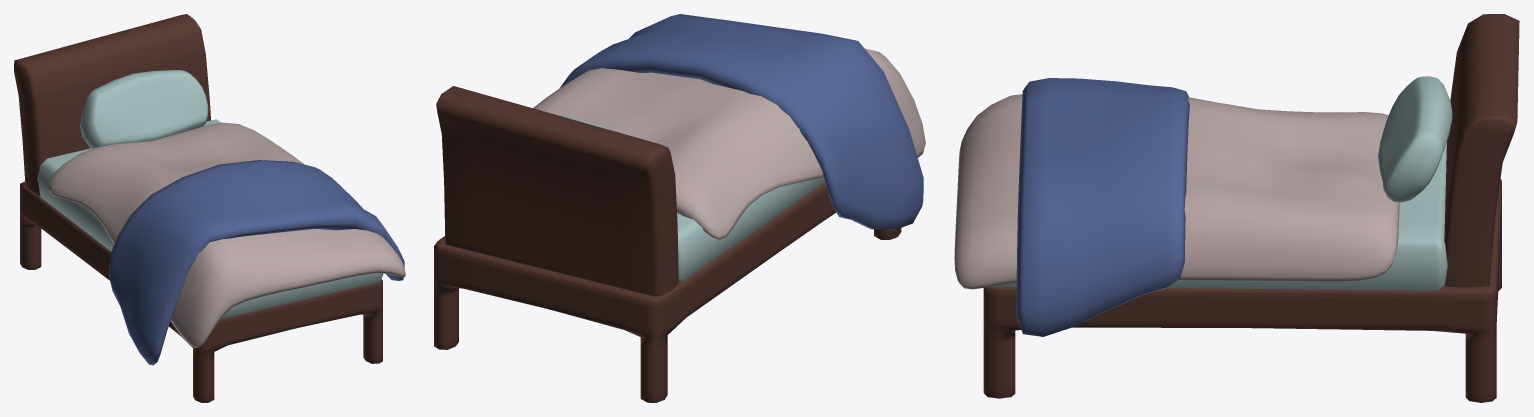
File: bed_1.fbx
The picture shows the model from 3 angles, left to right: view 1: azimuth 30°, elevation 25°; view 2: azimuth 150°, elevation 25°; view 3: azimuth 270°, elevation 25°; orthographic projection. The views are drawn at different scales.
Visible parts, largest first — view 1: polySurface33, bed4_polySurface38, polySurface34, polySurface36, polySurface32; view 2: bed4_polySurface38, polySurface34, polySurface33, polySurface32; view 3: polySurface33, polySurface34, bed4_polySurface38, polySurface32, polySurface36.
Part boxes in pixels (x1=…): polySurface33: x1=48, y1=122, x2=405, y2=347; bed4_polySurface38: x1=14, y1=14, x2=382, y2=402; polySurface34: x1=109, y1=160, x2=404, y2=365; polySurface36: x1=80, y1=70, x2=208, y2=148; polySurface32: x1=37, y1=119, x2=383, y2=319; bed4_polySurface38: x1=434, y1=86, x2=901, y2=402; polySurface34: x1=560, y1=14, x2=923, y2=229; polySurface33: x1=533, y1=48, x2=925, y2=239; polySurface32: x1=677, y1=177, x2=825, y2=281; polySurface33: x1=954, y1=94, x2=1399, y2=289; polySurface34: x1=1016, y1=78, x2=1189, y2=336; bed4_polySurface38: x1=983, y1=14, x2=1519, y2=402; polySurface32: x1=992, y1=142, x2=1447, y2=290; polySurface36: x1=1378, y1=76, x2=1452, y2=202.
Size of the model in its own units: 20.2 by 16.09 by 29.34.
